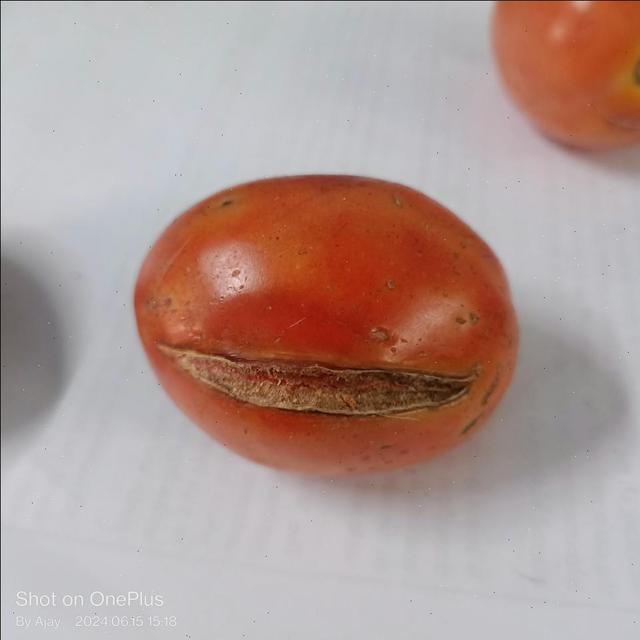Cracking Fruit: (50, 103, 187, 361)
